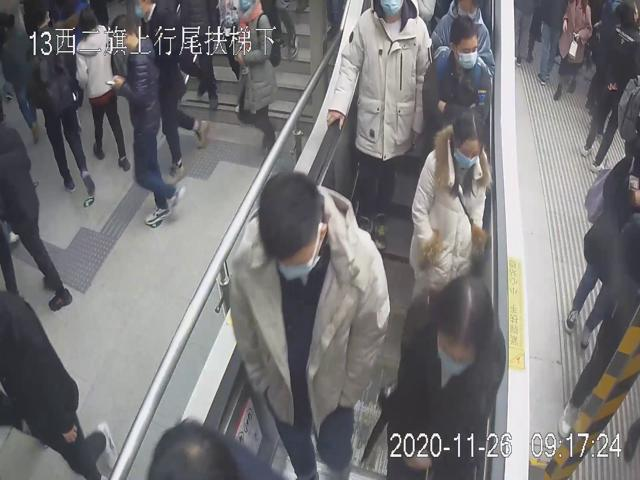person: (226, 167, 391, 478), (391, 272, 506, 480), (406, 108, 493, 296), (421, 10, 494, 145)
